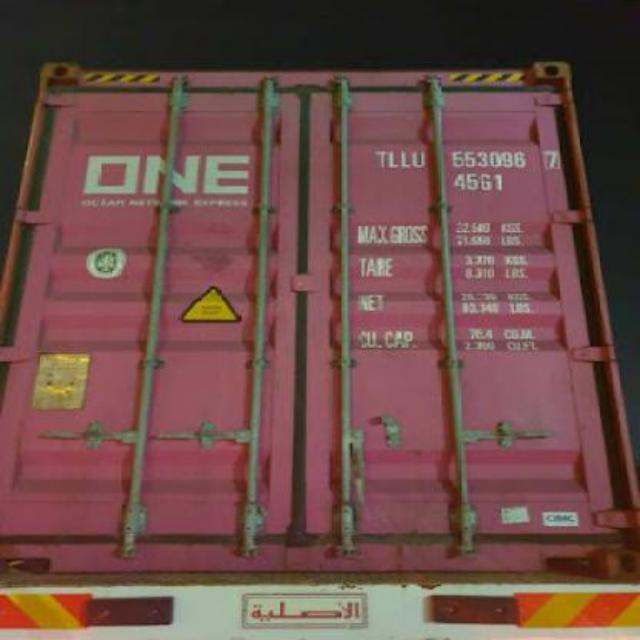0: (488, 142, 500, 174)
3: (476, 148, 488, 170)
5: (458, 141, 476, 173), (451, 148, 464, 168)
6: (512, 143, 528, 169)
7: (540, 144, 560, 172)
9: (500, 147, 512, 173)
L: (396, 146, 412, 172), (384, 148, 400, 172)
T: (376, 146, 386, 170)
U: (410, 145, 430, 171)
